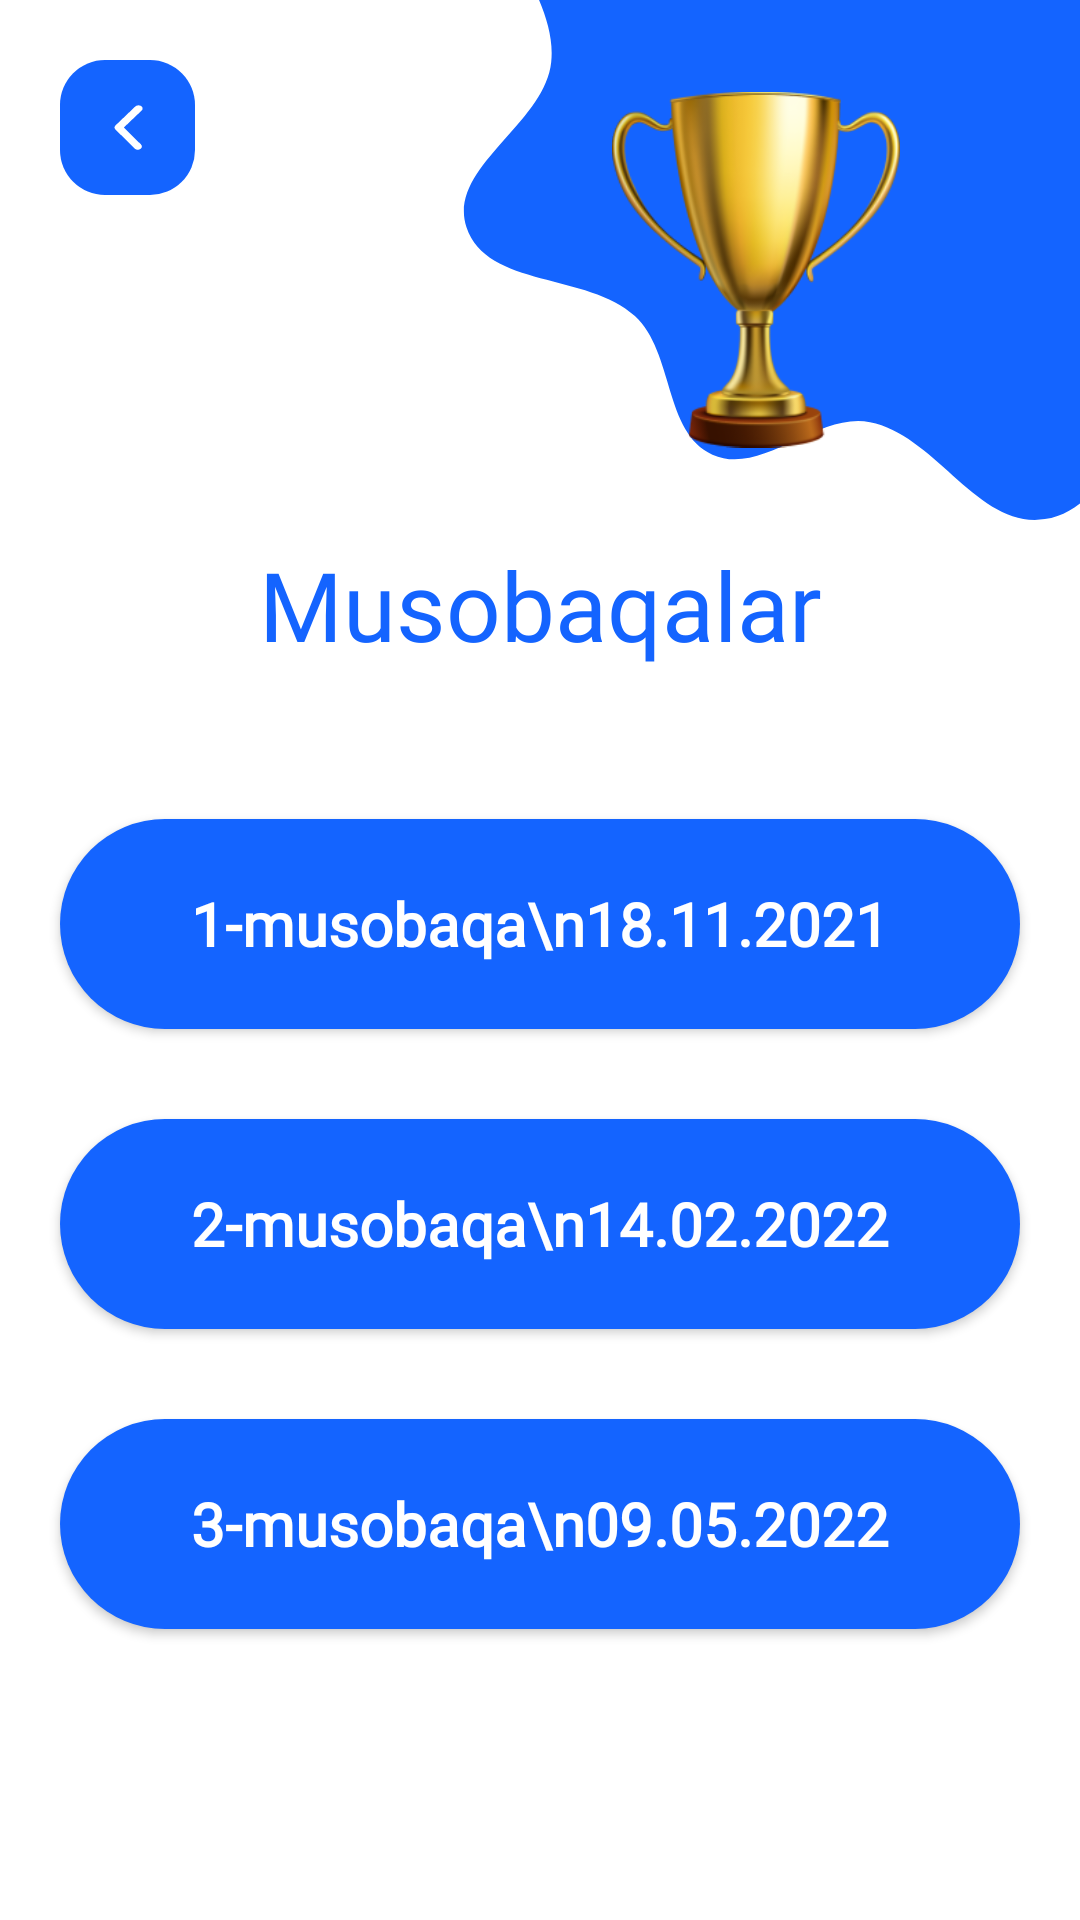

Where icons sit on this 1080 x 1920 app screen, as bbox(x1, y1, x2, y2):
left arrow: bbox(60, 60, 195, 195)
